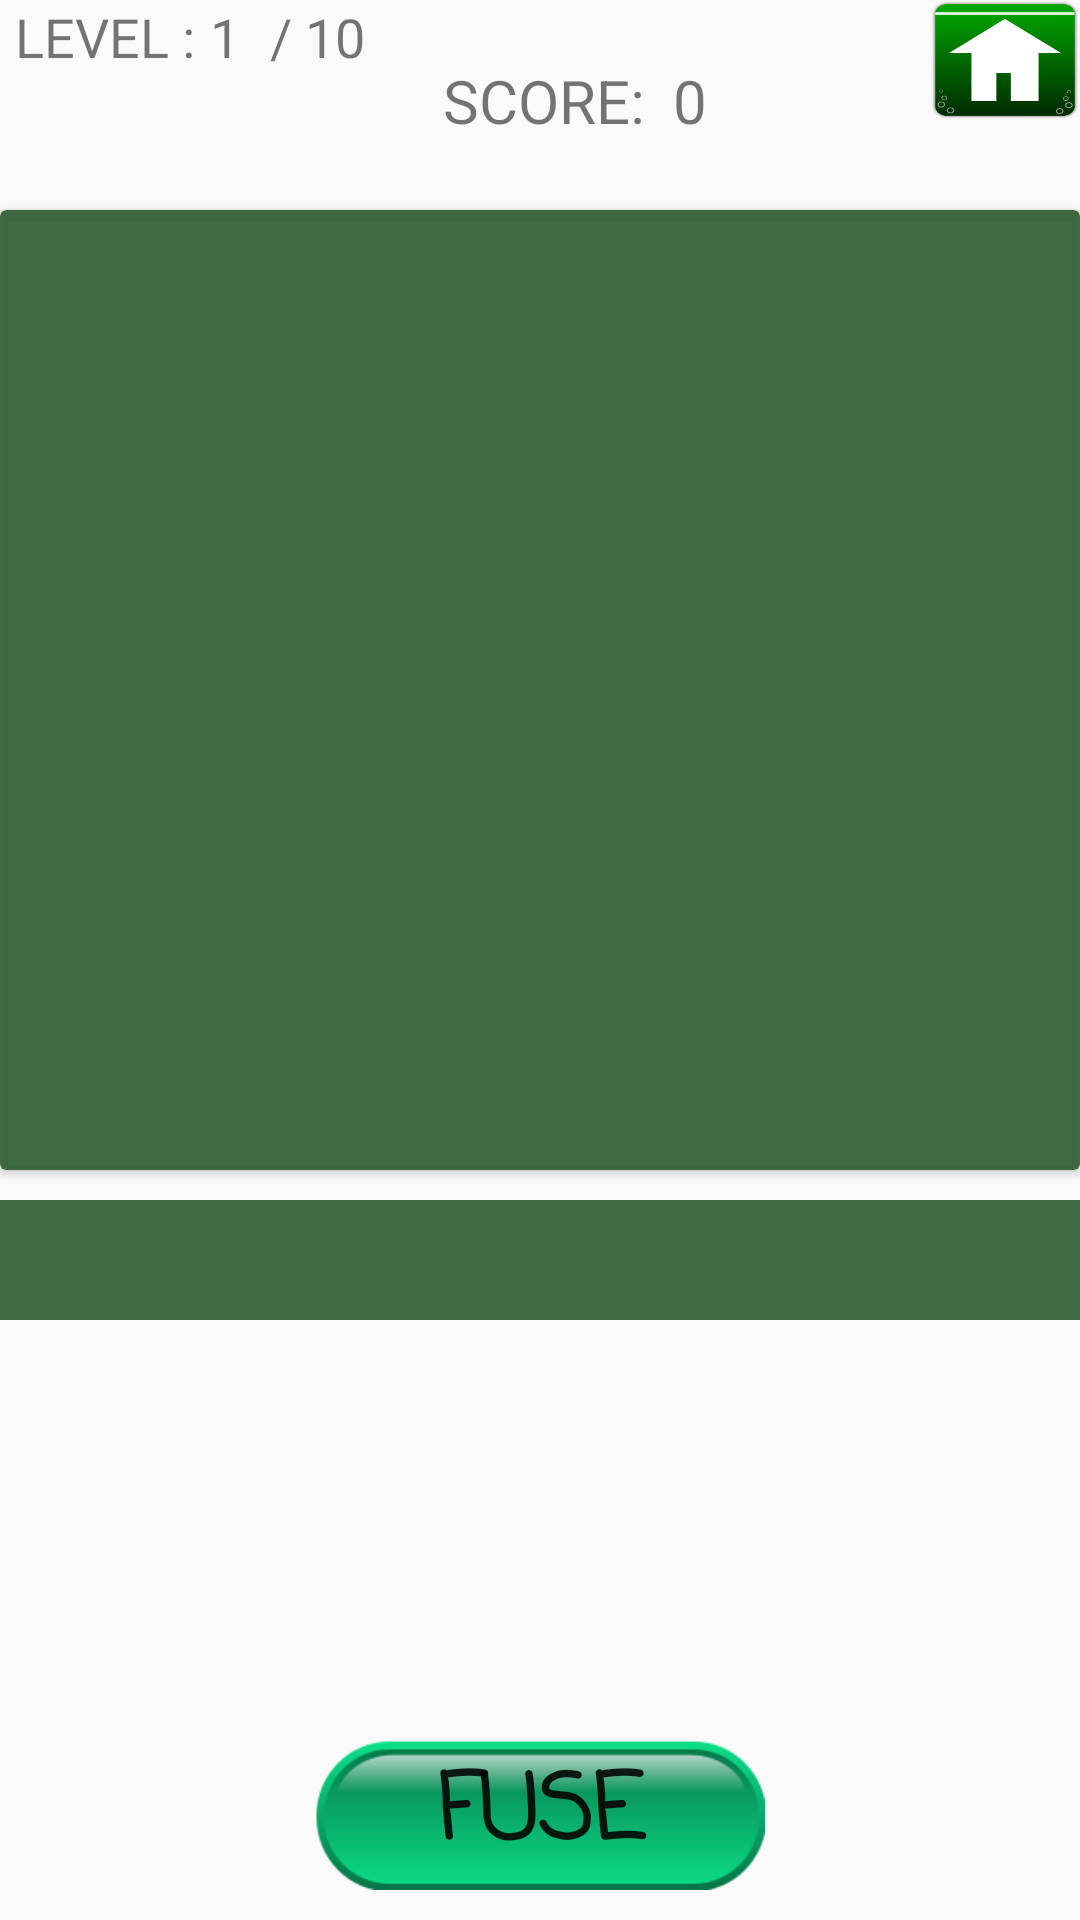

Point at icon controls on the screen. Image size 1080px×1920px, points as (x,y).
home: (1005,60)
